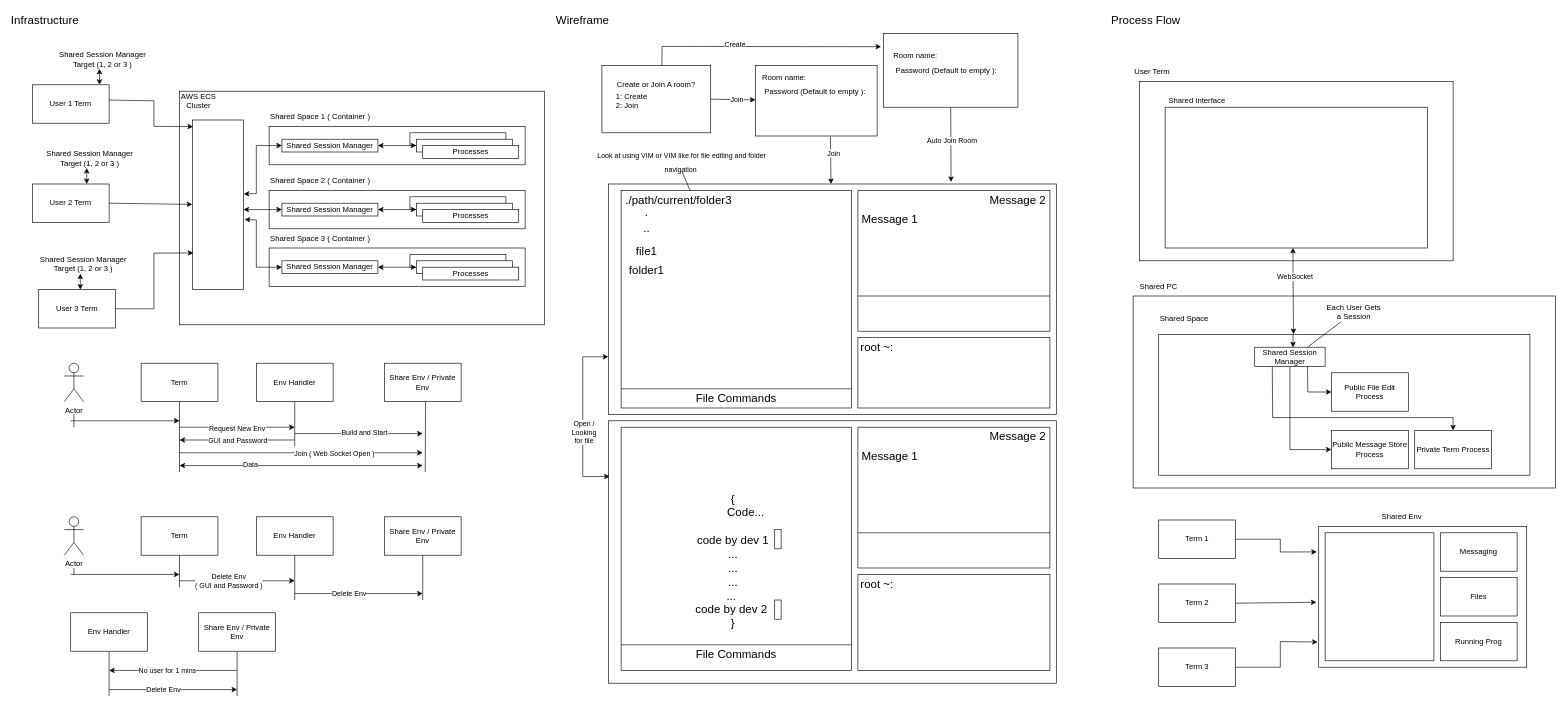
The diagram is 1567 pixels wide and 708 high, and some of its shapes have lost their labels. Each missing label, with the centre of its shape:
"Code" goes at point (1379, 596).
"Shared Space Controller (Container)" goes at point (218, 204).
